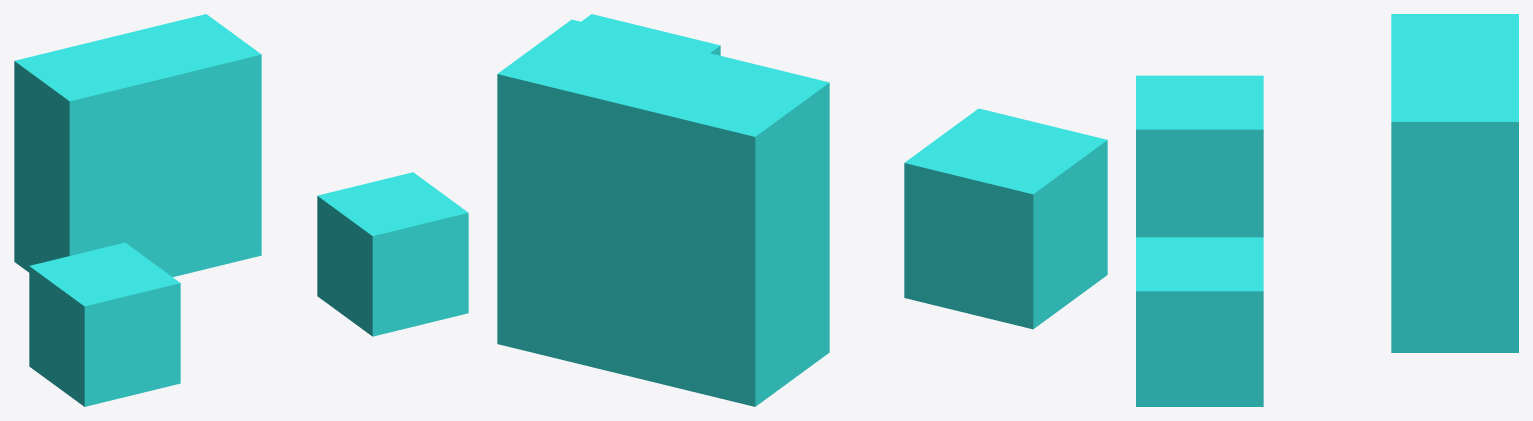
File: nave4-azul.obj
3 renders of one model, left to right at view 1: azimuth 30°, elevation 25°; view 2: azimuth 150°, elevation 25°; view 3: azimuth 270°, elevation 25°, orthographic. The views are drawn at different scales.
Bounding box in the file's own units: 0.4 × 0.2 × 0.3.
1 material, 1 textured.
